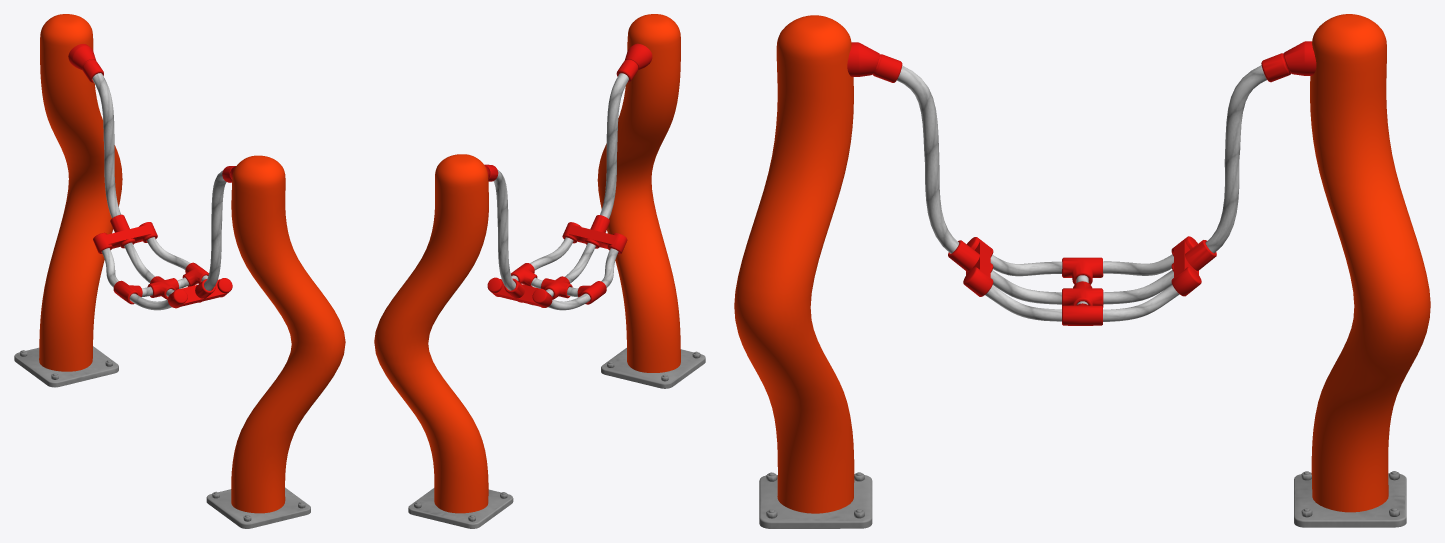
Rendered from the_modern_swing_7c561f8a.glb.
3 views of the same model, side by side, from view 1: azimuth 30°, elevation 25°; view 2: azimuth 150°, elevation 25°; view 3: azimuth 270°, elevation 25° (orthographic). The views are drawn at different scales.
Parts seen in each view (by area): view 1: the_modern_swing_7c561f8a; view 2: the_modern_swing_7c561f8a; view 3: the_modern_swing_7c561f8a.
Part boxes in pixels (x1,y1,x2,y2): the_modern_swing_7c561f8a: (14, 14, 345, 528); the_modern_swing_7c561f8a: (374, 14, 705, 528); the_modern_swing_7c561f8a: (734, 14, 1430, 528).
Bounding box in the file's own units: 0.4477 × 1.35 × 1.75.
4 materials, 2 textured.
